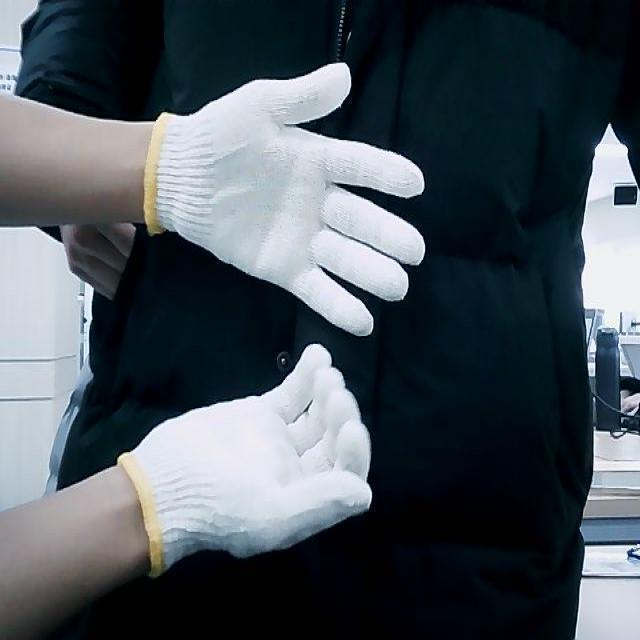gloves: (144, 62, 428, 336), (118, 344, 374, 574)
